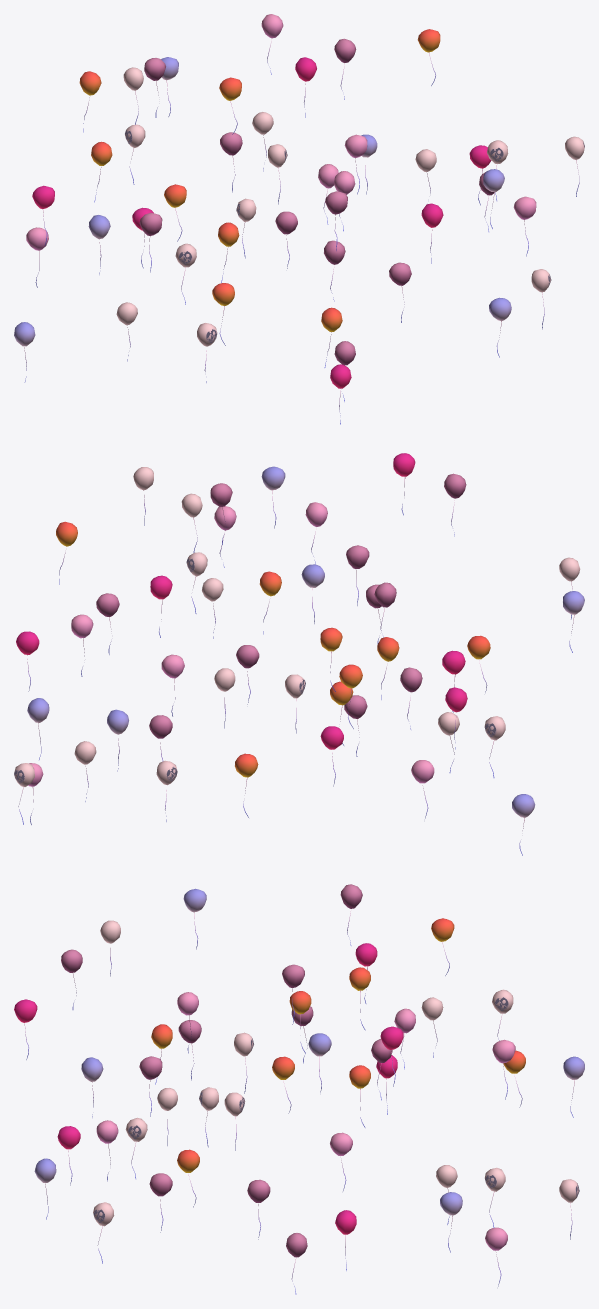
Rendered from balloon_group01.glb.
3 renders of one model, top to bottom at view 1: azimuth 30°, elevation 25°; view 2: azimuth 150°, elevation 25°; view 3: azimuth 270°, elevation 25°, orthographic. The views are drawn at different scales.
Parts seen in each view (by area): view 1: Balloon_Spiral2.062; view 2: Balloon_Spiral2.062; view 3: Balloon_Spiral2.062.
Boxes of the visible parts, x1,y1,x2,y2 form: Balloon_Spiral2.062: (14,14,584,424); Balloon_Spiral2.062: (14,453,584,855); Balloon_Spiral2.062: (14,884,584,1294).
Bounding box in the file's own units: 44.3 × 25.77 × 44.33.
Materials: 1 (1 with a texture image).
